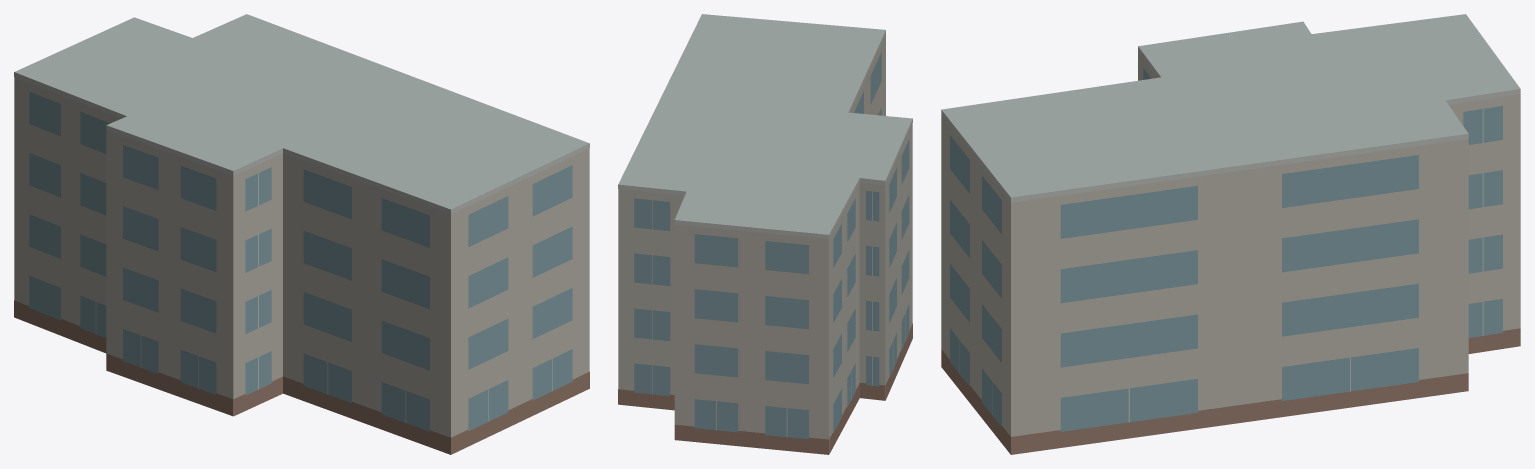
Rendered from survey-upis-32623923.glb.
3 views of the same model, side by side, from view 1: azimuth 30°, elevation 25°; view 2: azimuth 150°, elevation 25°; view 3: azimuth 270°, elevation 25° (orthographic). The views are drawn at different scales.
Parts seen in each view (by area): view 1: survey-upis-32623923.tmp; view 2: survey-upis-32623923.tmp; view 3: survey-upis-32623923.tmp.
Part boxes in pixels (x1,y1,x2,y2): survey-upis-32623923.tmp: (14,14,589,454); survey-upis-32623923.tmp: (618,14,912,454); survey-upis-32623923.tmp: (941,14,1520,454).
Size of the model in its own units: 18.67 by 12.2 by 24.9.
